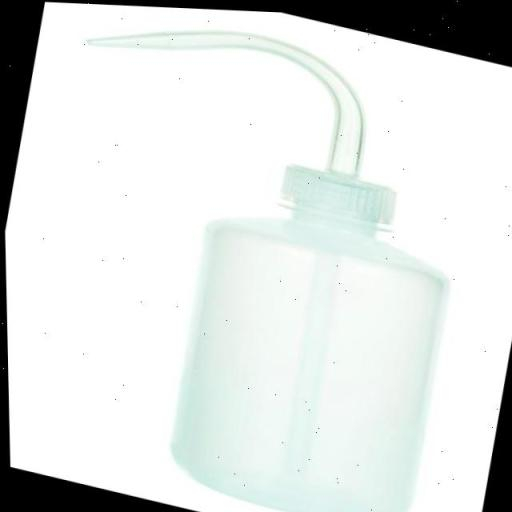plastic: (5, 0, 490, 512)
